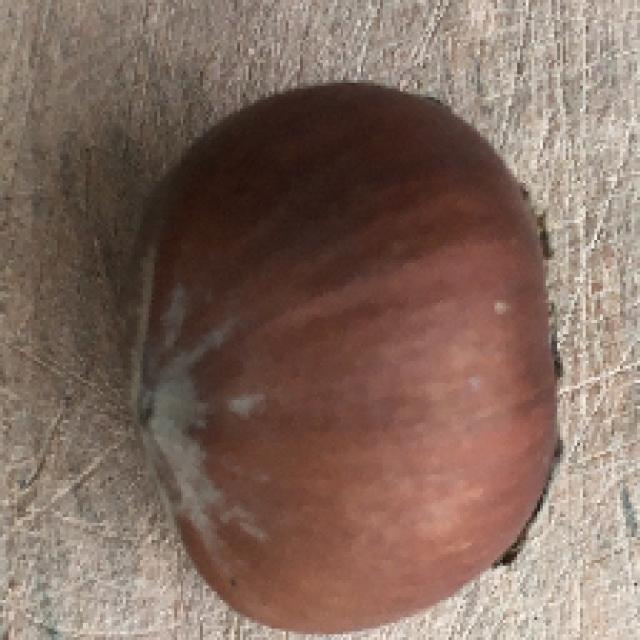damagedHazelnut: (119, 73, 568, 624)
